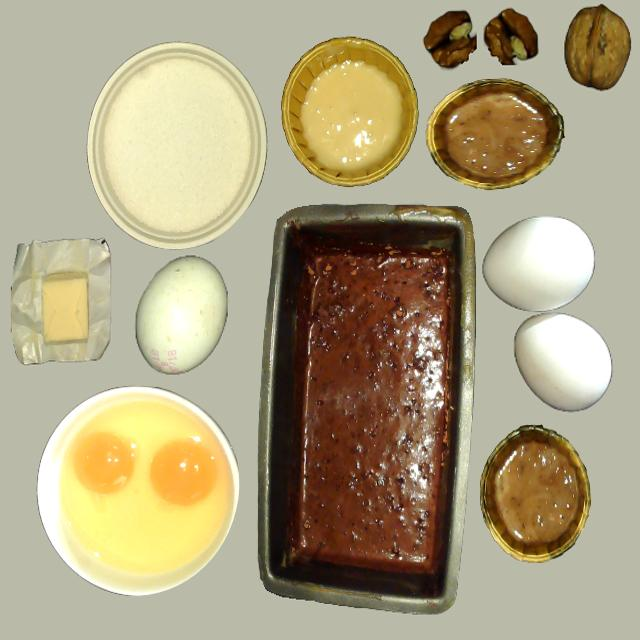Egg: (150, 440, 214, 505), (73, 432, 136, 494)
Sugar: (36, 386, 235, 595), (88, 42, 262, 246)
Walnut: (564, 5, 630, 90)
